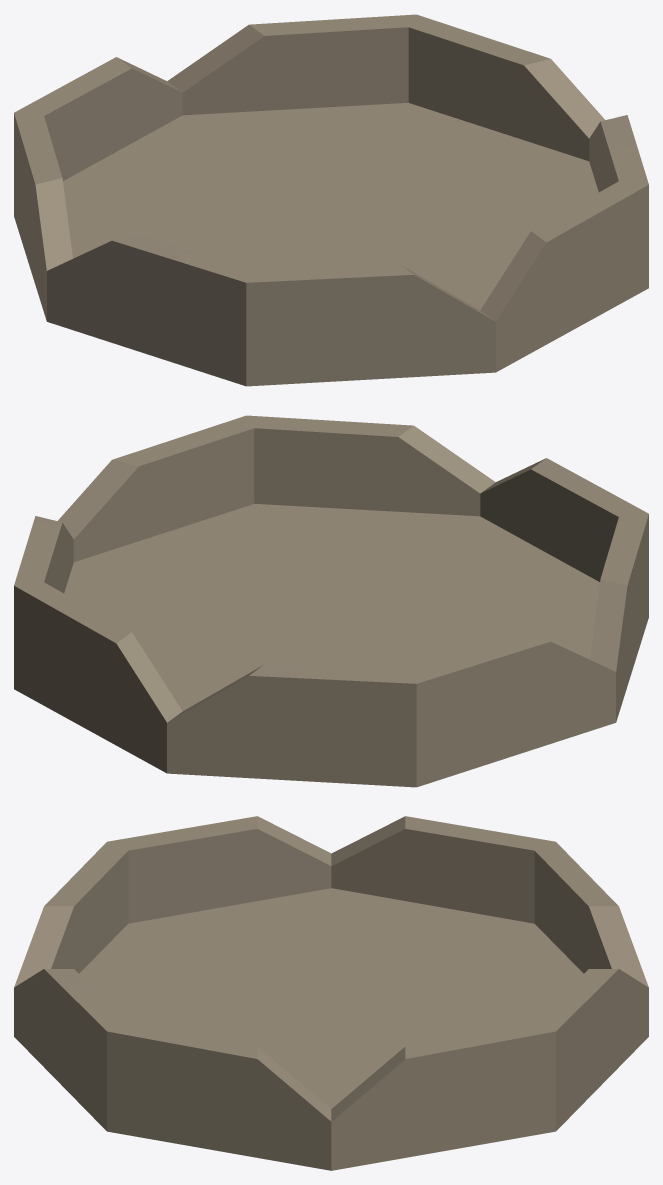
File: cinzeiro.fbx
3 views of the same model, one above another, from view 1: azimuth 30°, elevation 25°; view 2: azimuth 150°, elevation 25°; view 3: azimuth 270°, elevation 25° (orthographic). The views are drawn at different scales.
Visible parts, largest first — view 1: Cylinder.002; view 2: Cylinder.002; view 3: Cylinder.002.
Boxes of the visible parts, x1,y1,x2,y2 form: Cylinder.002: [14, 14, 648, 386]; Cylinder.002: [14, 415, 648, 787]; Cylinder.002: [14, 816, 648, 1170].
Bounding box in the file's own units: 92.1 × 16.02 × 92.1.
